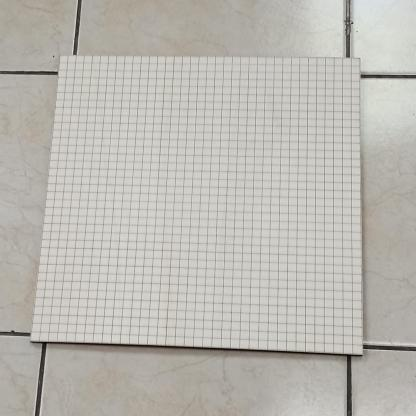grid: (24, 47, 371, 364)
